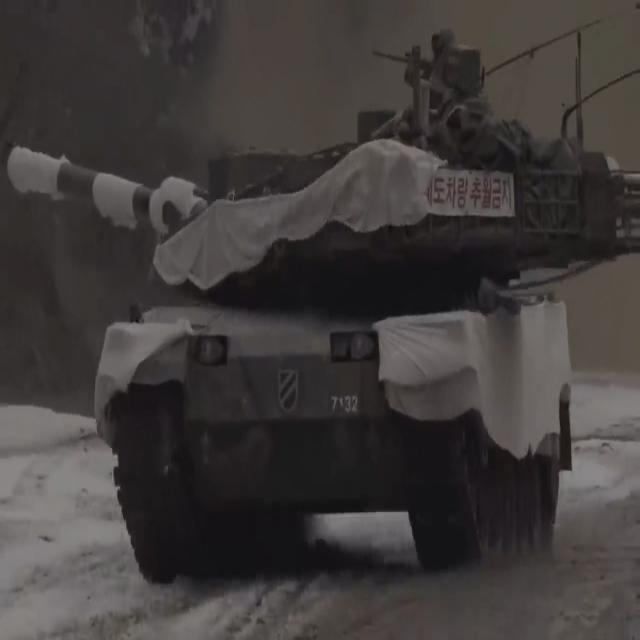korea tank: (4, 24, 640, 587)
